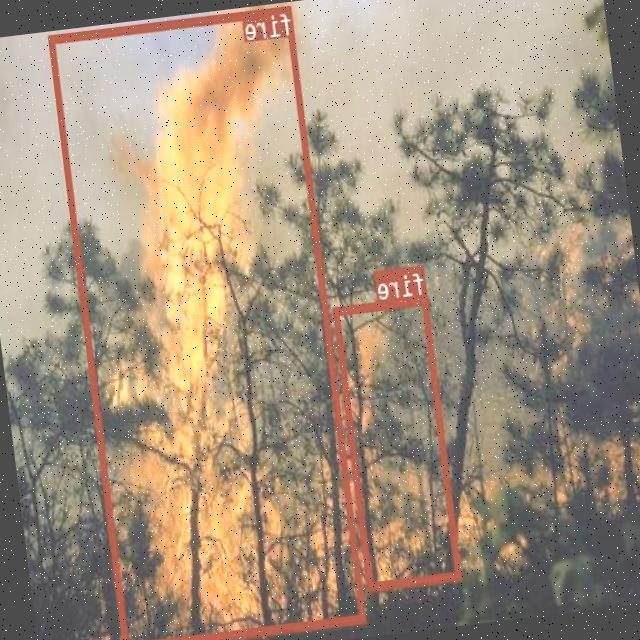fire: (49, 4, 366, 640), (333, 294, 463, 588)
